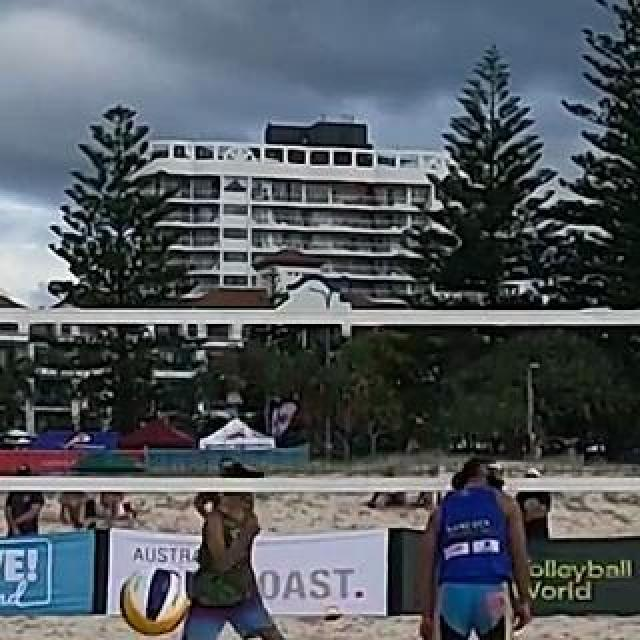volleyball: (122, 565, 188, 633), (323, 604, 341, 624)
